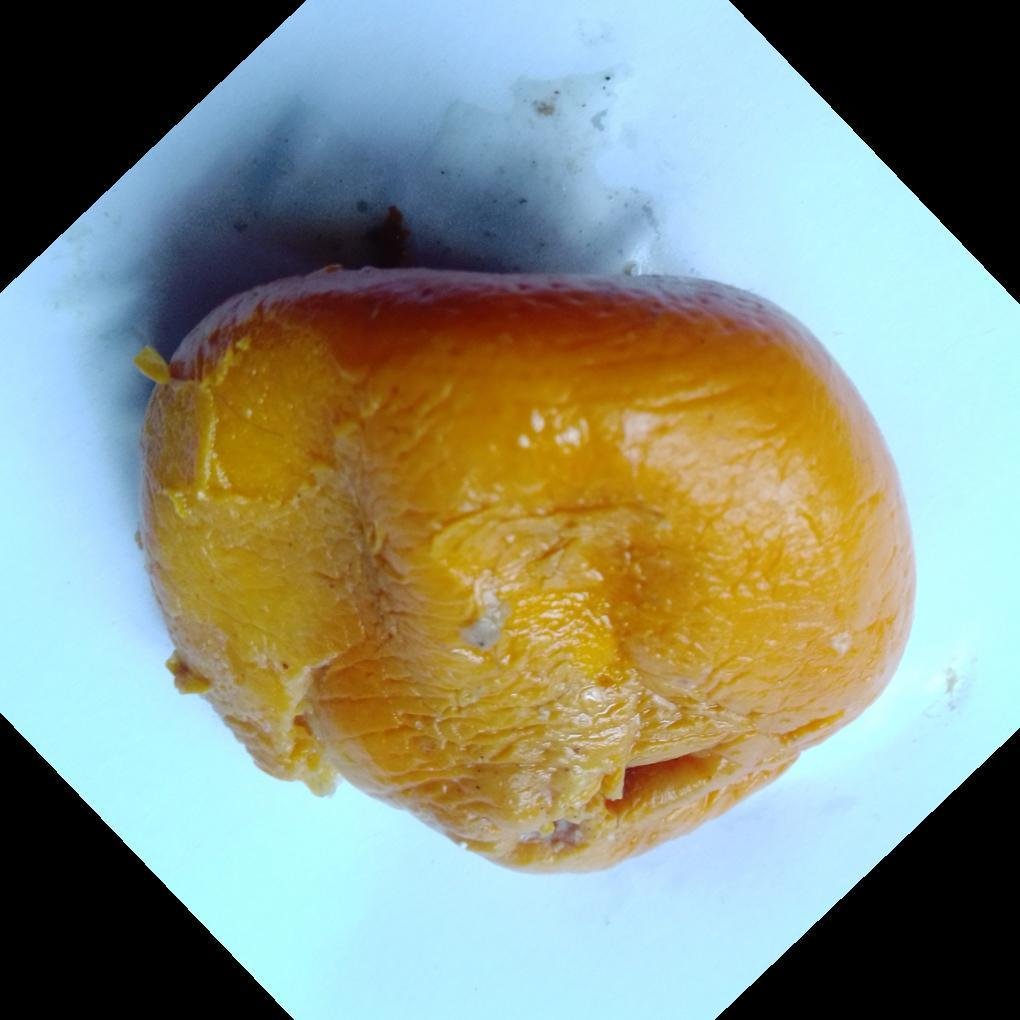FreshOrange: (133, 268, 918, 880)
